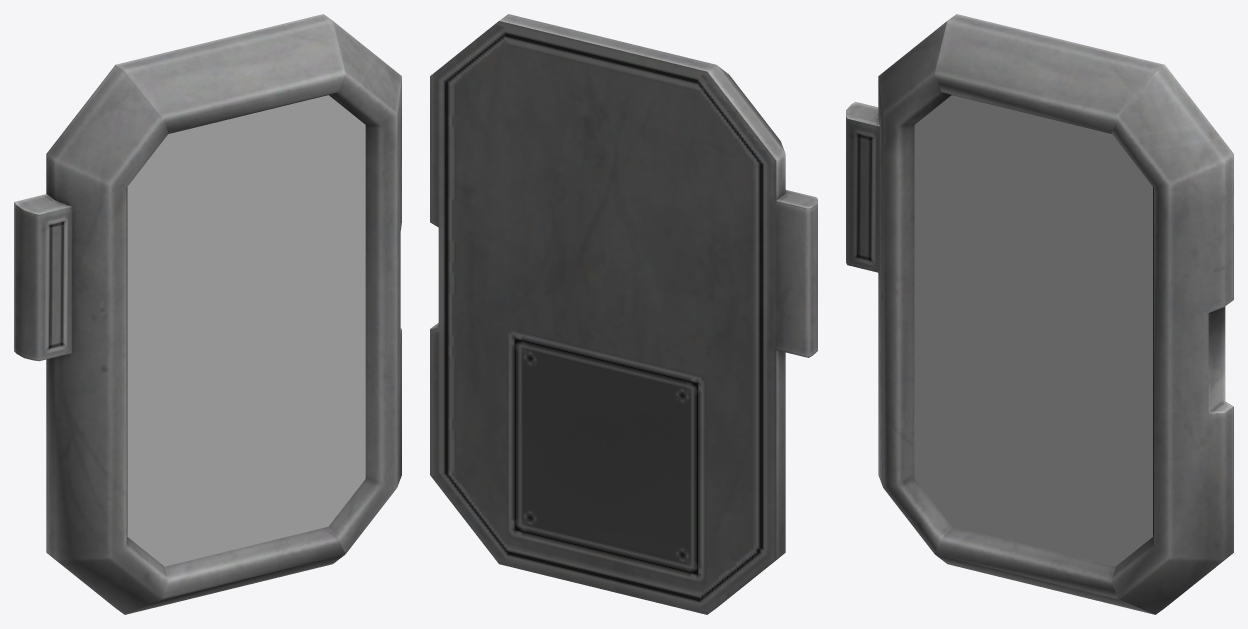
The model's file is theta_panel_nobase_terminal.dae.
3 renders of one model, left to right at view 1: azimuth 30°, elevation 25°; view 2: azimuth 150°, elevation 25°; view 3: azimuth 330°, elevation 25°, orthographic.
Parts seen in each view (by area): view 1: Mesh__2_, Mesh; view 2: Mesh; view 3: Mesh__2_, Mesh.
Boxes of the visible parts, x1,y1,x2,y2 form: Mesh__2_: (127,95,365,566); Mesh: (14,14,401,614); Mesh: (430,14,817,614); Mesh__2_: (914,95,1152,566); Mesh: (846,14,1233,614).
Bounding box in the file's own units: 0.3382 × 0.4628 × 0.053.
